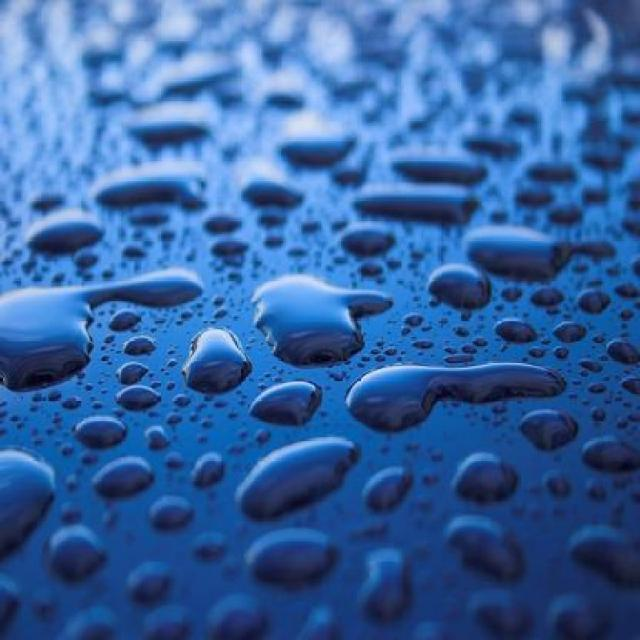raindrop: (0, 258, 218, 403), (338, 348, 582, 444), (222, 428, 373, 535), (242, 267, 395, 368), (464, 208, 622, 292), (239, 506, 347, 611), (78, 144, 218, 220), (0, 452, 62, 591), (26, 196, 122, 276), (424, 254, 524, 326), (175, 316, 254, 404), (344, 458, 439, 530), (8, 518, 118, 580), (442, 438, 538, 508), (272, 116, 378, 179), (248, 375, 332, 444), (516, 398, 596, 458), (92, 456, 174, 506), (105, 302, 168, 360), (577, 438, 640, 486), (74, 410, 138, 453)
